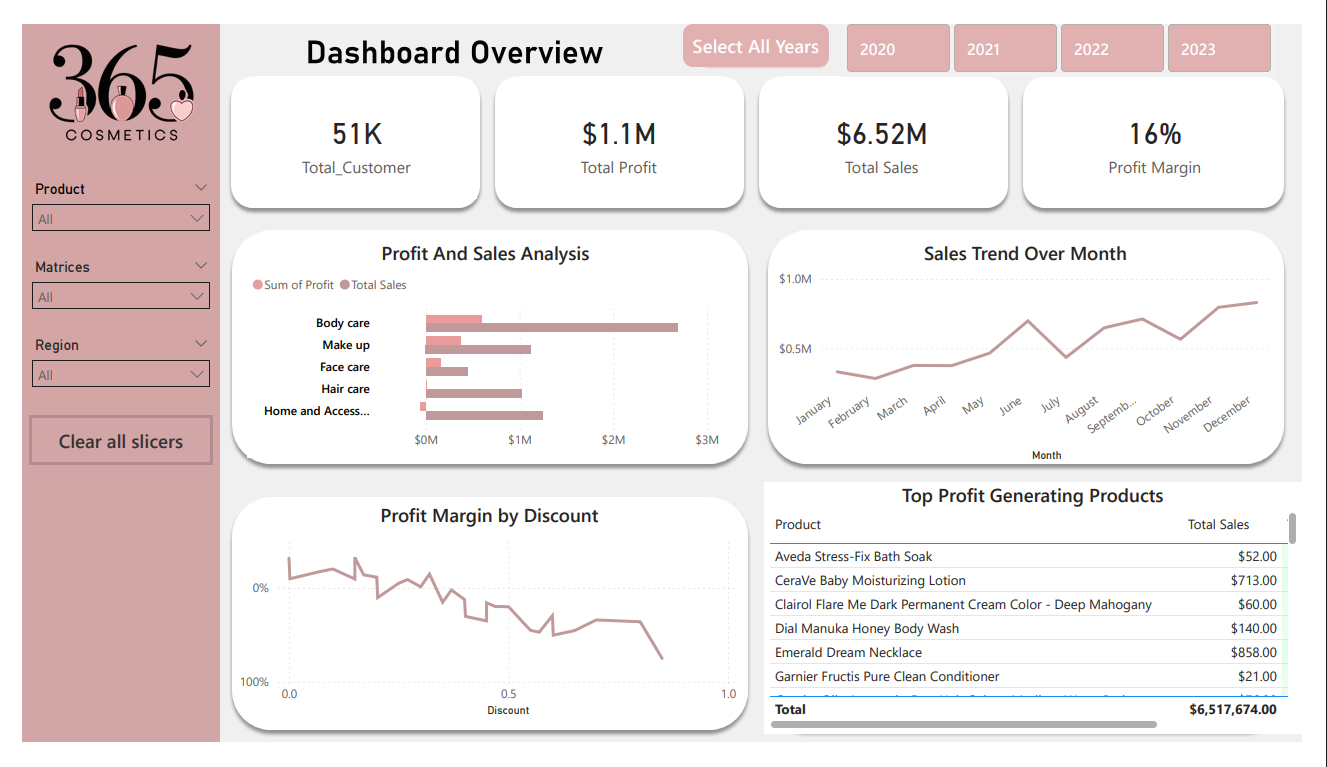

The page's visual inventory and layout, read from the dashboard file:
{"tool":"powerbi","page":{"name":"Overview","canvas":[1280,720],"ordinal":0},"visuals":[{"type":"card","fields":{"Values":["KPI_Measures.Total_Customer"]},"box":[214,62.2,241.2,112.8],"z":0},{"type":"card","fields":{"Values":["KPI_Measures.Total Profit"]},"box":[479.5,62.2,234.4,112.8],"z":1000},{"type":"card","fields":{"Values":["KPI_Measures.Total Sales"]},"box":[742.1,62.2,235.4,112.8],"z":2000},{"type":"card","fields":{"Values":["KPI_Measures.Profit Margin"]},"box":[1010.6,62.2,244.1,112.8],"z":3000},{"type":"clusteredBarChart","title":"Profit  And Sales Analysis","fields":{"Category":["data.Category"],"Y":["Sum(data.Profit)","KPI_Measures.Total Sales"]},"box":[224.7,215.9,477.6,217.9],"z":4000},{"type":"lineChart","title":"Sales Trend Over Month","fields":{"Category":["Dim_Date.Order Date.Variation.Date Hierarchy.Month"],"Y":["KPI_Measures.Total Sales"]},"box":[751.9,215.9,502.9,225.7],"z":5000},{"type":"lineChart","fields":{"Y":["KPI_Measures.Profit Margin"],"Category":["data.Discount"]},"box":[214,477.6,506.7,219.8],"z":6000},{"type":"tableEx","title":"Top Profit Generating Products","fields":{"Values":["data.Product","KPI_Measures.Total Sales","KPI_Measures.Total Profit","KPI_Measures.Profit Margin"]},"box":[742,458.4,538,251.5],"z":7000},{"type":"slicer","fields":{"Values":["data.Product"]},"box":[0,152.5,198.1,77.7],"z":8000},{"type":"slicer","fields":{"Values":["Parameter.Parameter"]},"box":[0,230.2,198.1,77.7],"z":9000},{"type":"slicer","fields":{"Values":["data.Region"]},"box":[0,307.9,198.1,77.7],"z":10000},{"type":"actionButton","box":[6.8,391.4,184.5,49.5],"z":11000},{"type":"advancedSlicerVisual","fields":{"Values":["Dim_Date.Order Date.Variation.Date Hierarchy.Year"]},"box":[819.7,0,435.1,53.4],"z":12000},{"type":"actionButton","box":[660.8,0,146.4,42.8],"z":13000}]}

Visuals, with their boxes in screenshot pixels (x1, y1, x2, y2), scaled from the page's 1280x720 canvas onto the 1327x767 screenshot:
card - KPI_Measures.Total_Customer: locate(222, 66, 472, 186)
card - KPI_Measures.Total Profit: locate(497, 66, 740, 186)
card - KPI_Measures.Total Sales: locate(769, 66, 1013, 186)
card - KPI_Measures.Profit Margin: locate(1048, 66, 1301, 186)
"Profit  And Sales Analysis" clusteredBarChart: locate(233, 230, 728, 462)
"Sales Trend Over Month" lineChart: locate(780, 230, 1301, 470)
lineChart - KPI_Measures.Profit Margin x data.Discount: locate(222, 509, 747, 743)
"Top Profit Generating Products" tableEx: locate(769, 488, 1326, 756)
slicer - data.Product: locate(0, 162, 205, 245)
slicer - Parameter.Parameter: locate(0, 245, 205, 328)
slicer - data.Region: locate(0, 328, 205, 411)
actionButton: locate(7, 417, 198, 470)
advancedSlicerVisual - Dim_Date.Order Date.Variation.Date Hierarchy.Year: locate(850, 0, 1301, 57)
actionButton: locate(685, 0, 837, 46)
